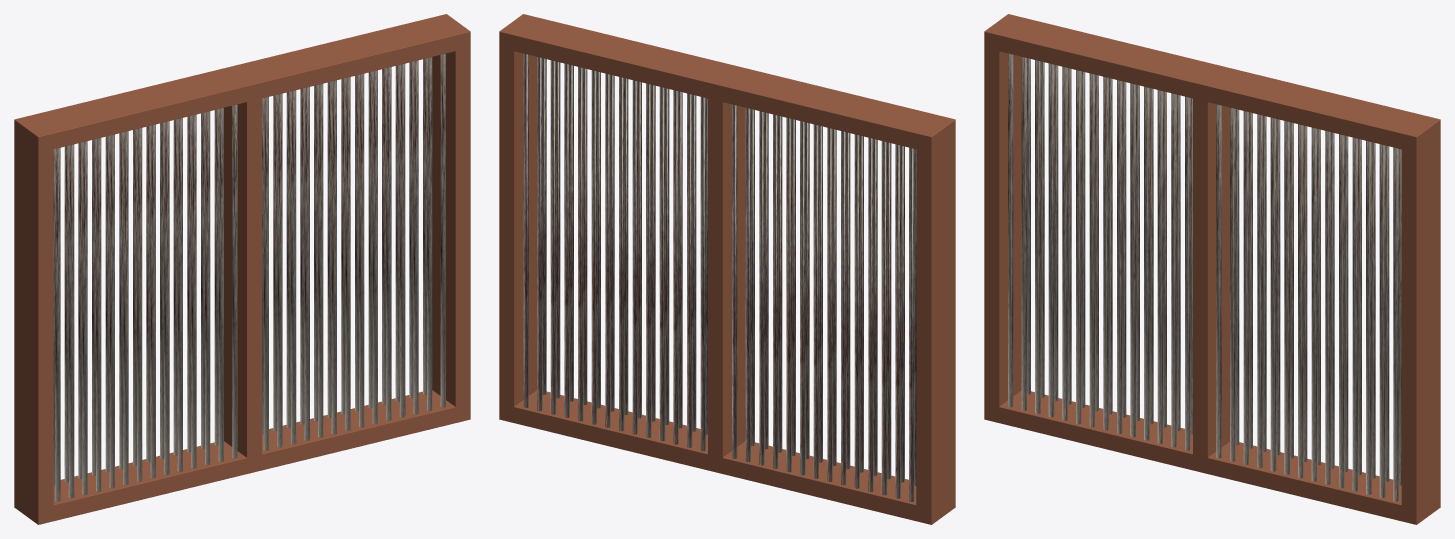
Rendered from jendela 3.fbx.
3 renders of one model, left to right at view 1: azimuth 30°, elevation 25°; view 2: azimuth 150°, elevation 25°; view 3: azimuth 330°, elevation 25°, orthographic.
Parts seen in each view (by area): view 1: kerangka jendela.003, jerjak.009, jerjak.008; view 2: kerangka jendela.003, jerjak.009, jerjak.008; view 3: kerangka jendela.003, jerjak.009, jerjak.008.
Boxes of the visible parts, x1,y1,x2,y2 form: kerangka jendela.003: [14, 14, 470, 524]; jerjak.009: [262, 53, 445, 450]; jerjak.008: [53, 104, 237, 501]; kerangka jendela.003: [499, 14, 955, 524]; jerjak.009: [523, 53, 707, 451]; jerjak.008: [732, 104, 916, 501]; kerangka jendela.003: [984, 14, 1440, 524]; jerjak.009: [1216, 104, 1401, 501]; jerjak.008: [1008, 53, 1192, 450].
Size of the model in its own units: 140 by 120 by 13.55.
2 materials, 1 textured.
